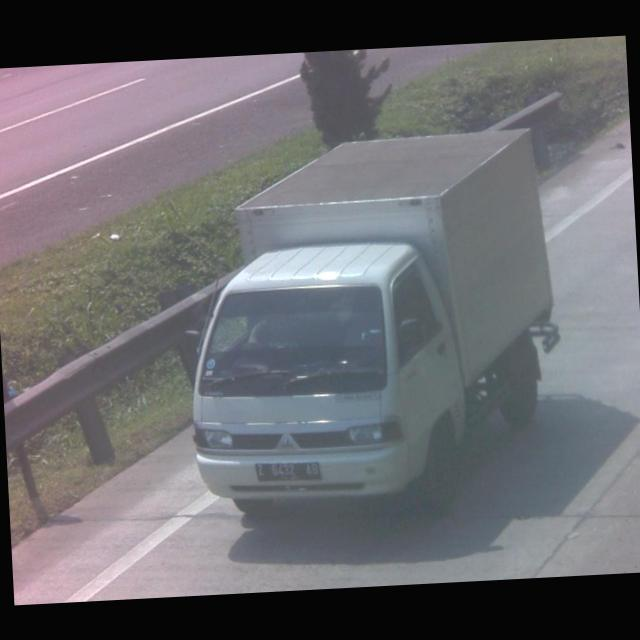plate: (255, 460, 321, 482)
